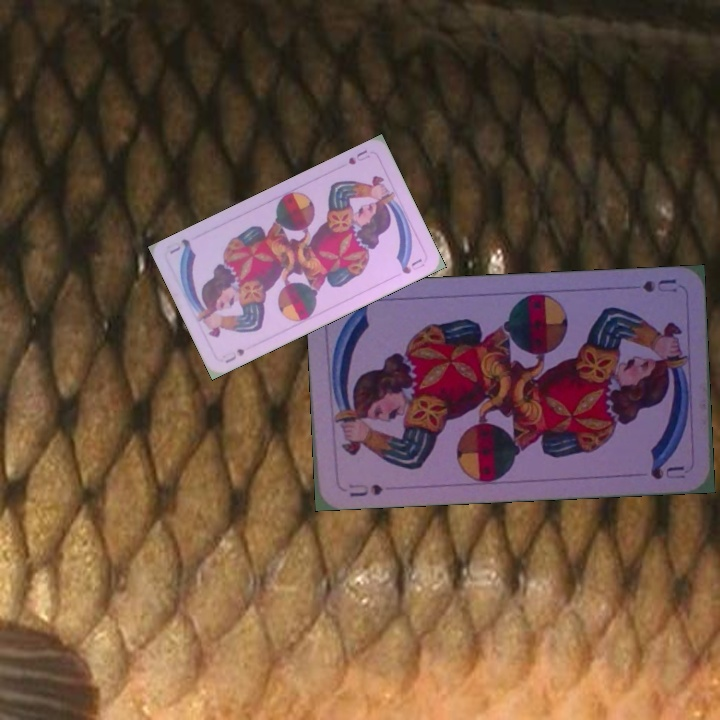SU: (638, 275, 679, 295), (345, 479, 385, 499), (344, 145, 373, 167), (221, 344, 249, 366)
